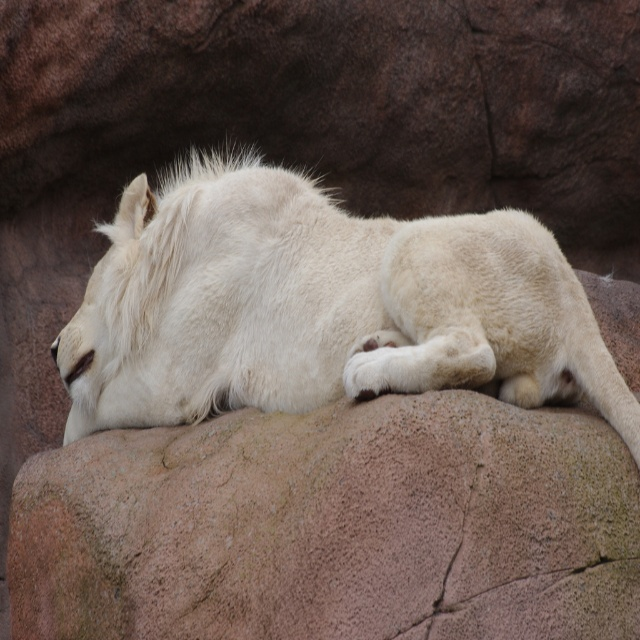Lion: (50, 126, 640, 473)
